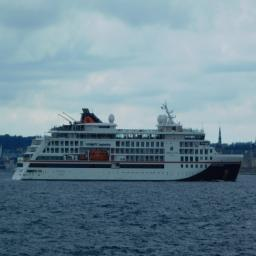cruises: (12, 100, 246, 186)
